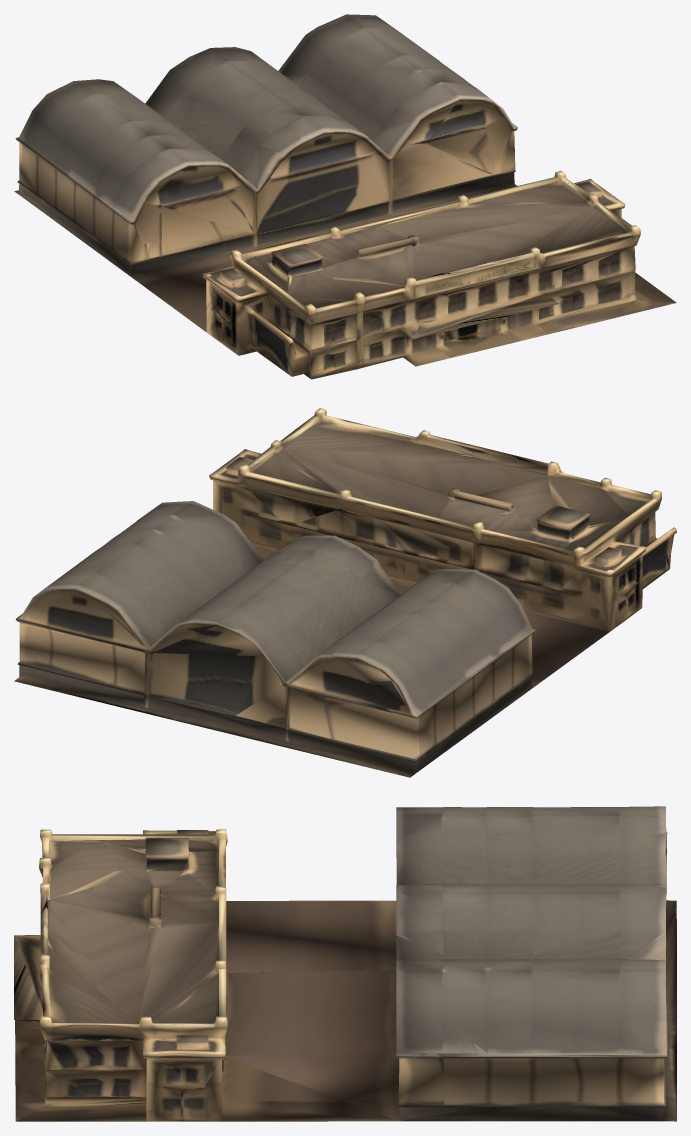
Rendered from BD_Columbia.fbx.
3 renders of one model, top to bottom at view 1: azimuth 30°, elevation 25°; view 2: azimuth 150°, elevation 25°; view 3: azimuth 270°, elevation 25°, orthographic. The views are drawn at different scales.
Parts seen in each view (by area): view 1: model; view 2: model; view 3: model.
Part boxes in pixels (x1,y1,x2,y2): model: [14, 14, 676, 379]; model: [14, 408, 676, 777]; model: [14, 806, 676, 1121].
Bounding box in the file's own units: 64 × 80 × 16.
Materials: 1 (1 with a texture image).
